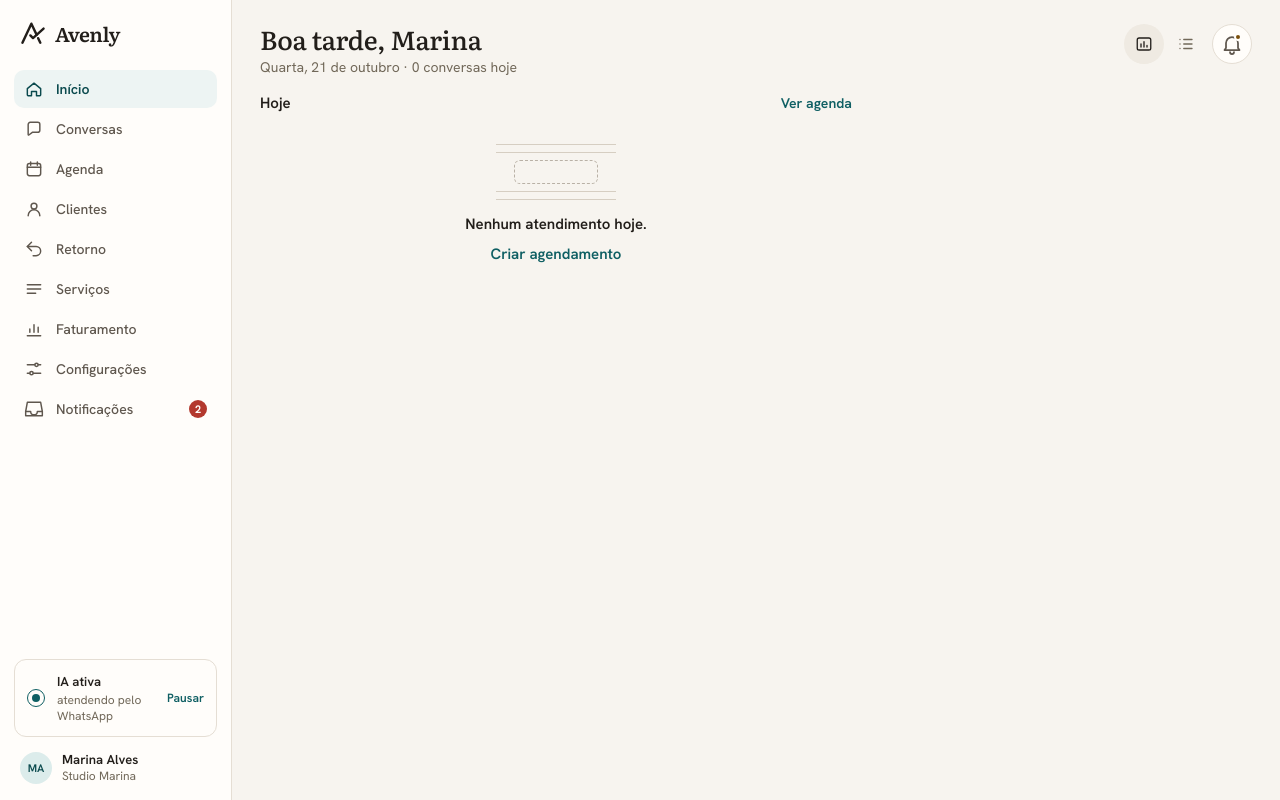
Test: Goal096 prova 3: a linha do NT1 › a gaveta mostra as mesmas linhas
The image size is (1280, 800).
Click the button named "Notificações, 2 não lidas": click(1232, 44) x1=1212 y1=24 x2=1252 y2=64
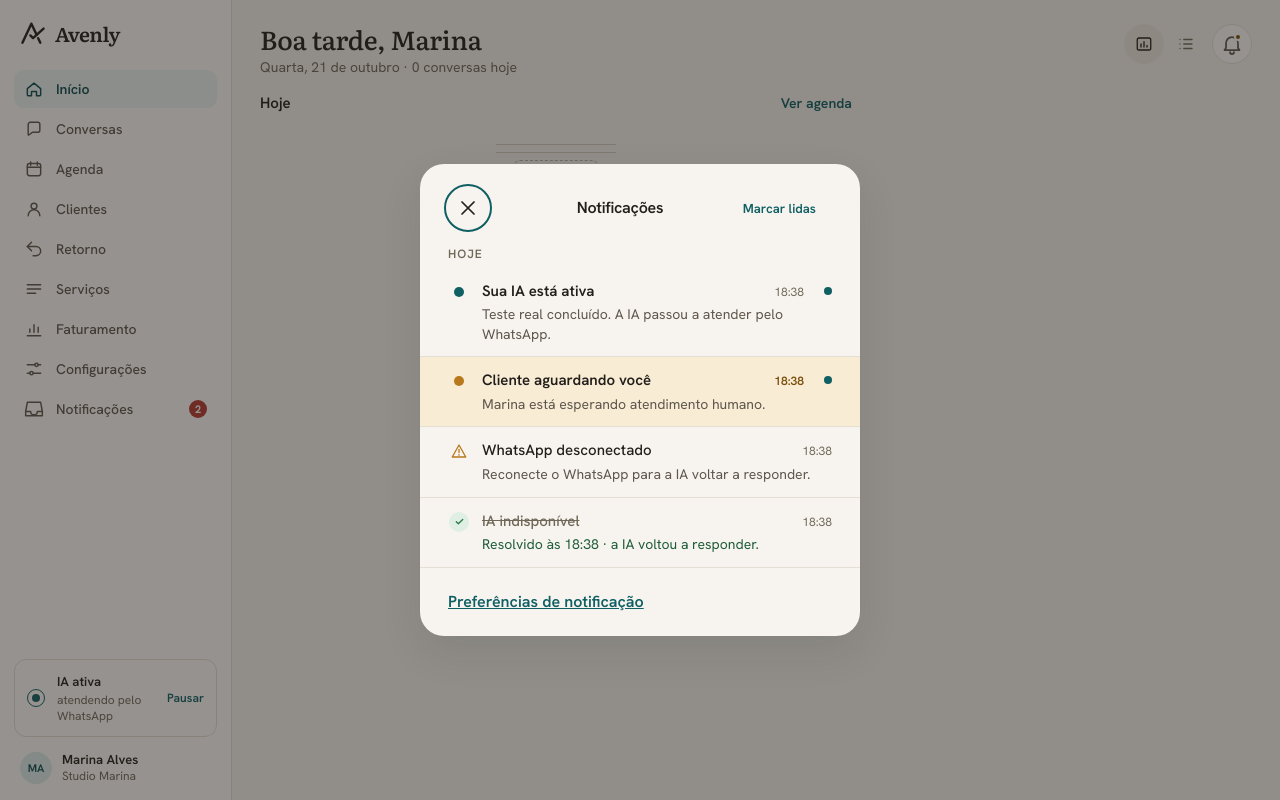
Now the list item with aria-label "Atenção: " is shown, box x1=420 y1=356 x2=860 y2=426
Now the button named "Marcar como lida" in the row of "Sua IA está ativa" is shown, box x1=816 y1=279 x2=840 y2=303
Now the button named "Marcar como lida" in the row of "Cliente aguardando você" is shown, box x1=816 y1=368 x2=840 y2=392
